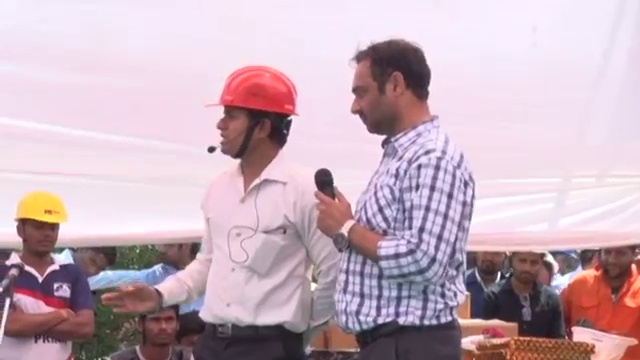helmet: (199, 63, 313, 123), (565, 326, 640, 360), (9, 191, 71, 228)
helmet_off: (348, 40, 437, 131), (135, 297, 182, 348), (509, 248, 545, 289), (598, 242, 637, 278), (74, 249, 114, 279), (154, 243, 200, 269), (474, 245, 507, 281)
helmet_on: (202, 64, 311, 181), (8, 192, 69, 262)
person: (101, 60, 342, 350), (312, 33, 488, 360), (0, 186, 100, 359), (561, 242, 640, 333), (484, 249, 567, 333), (100, 295, 199, 360), (142, 241, 207, 320), (457, 249, 508, 320)
